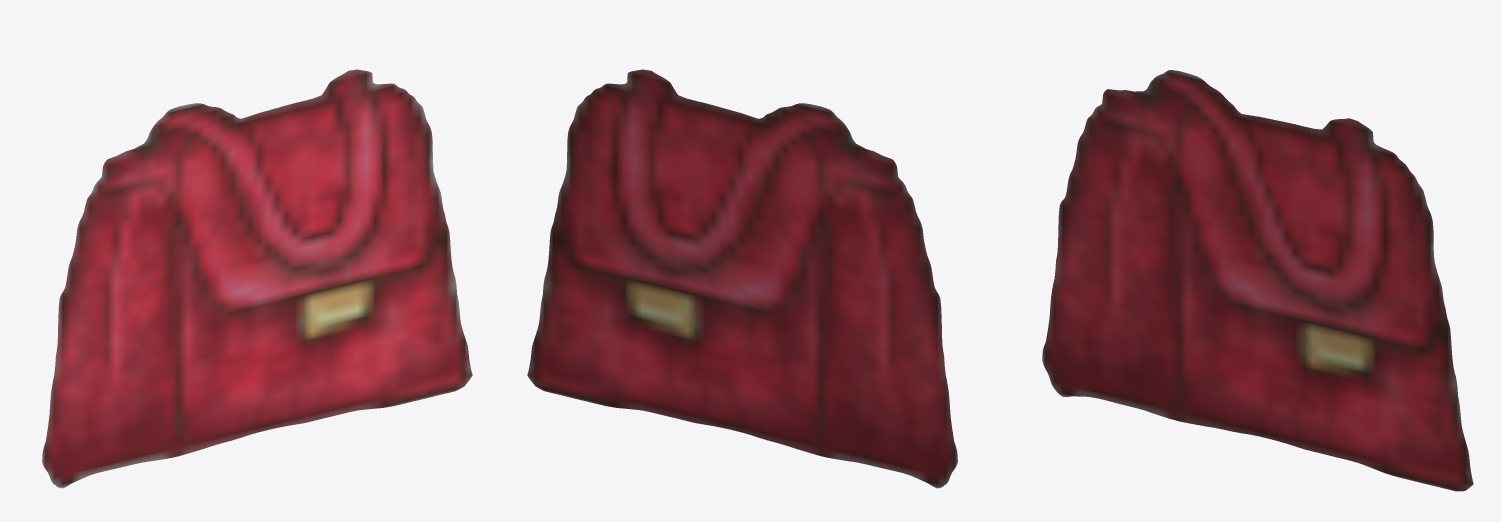
The model's file is giftgoods037.fbx.
The picture shows the model from 3 angles, left to right: view 1: azimuth 30°, elevation 25°; view 2: azimuth 150°, elevation 25°; view 3: azimuth 330°, elevation 25°; orthographic projection.
Parts seen in each view (by area): view 1: giftgoods037; view 2: giftgoods037; view 3: giftgoods037.
Part boxes in pixels (x1=…): giftgoods037: x1=42, y1=69, x2=472, y2=488; giftgoods037: x1=527, y1=69, x2=957, y2=488; giftgoods037: x1=1042, y1=70, x2=1473, y2=491.
Bounding box in the file's own units: 0.3971 × 0.3185 × 0.
